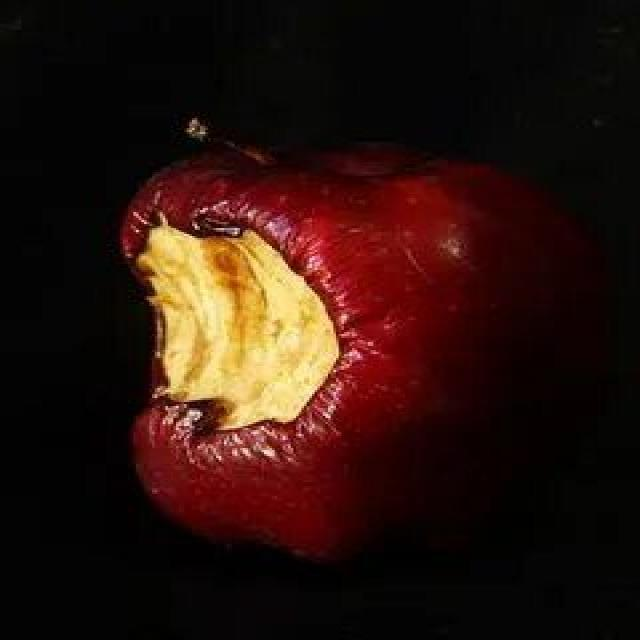Rotten: (123, 149, 640, 566)
